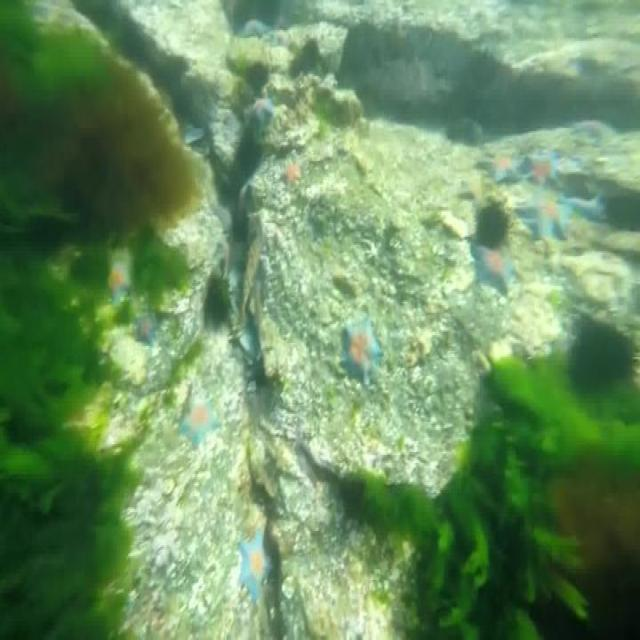echinus: (569, 320, 630, 386), (478, 199, 508, 250), (239, 130, 260, 174), (302, 41, 318, 70)
starfish: (514, 193, 572, 251), (343, 310, 381, 388), (472, 243, 514, 302), (180, 390, 222, 448), (240, 533, 273, 602), (527, 146, 564, 192), (479, 147, 521, 185), (565, 190, 609, 221), (572, 118, 617, 144), (106, 262, 129, 302), (249, 96, 272, 128), (133, 314, 155, 343), (242, 19, 269, 39)
